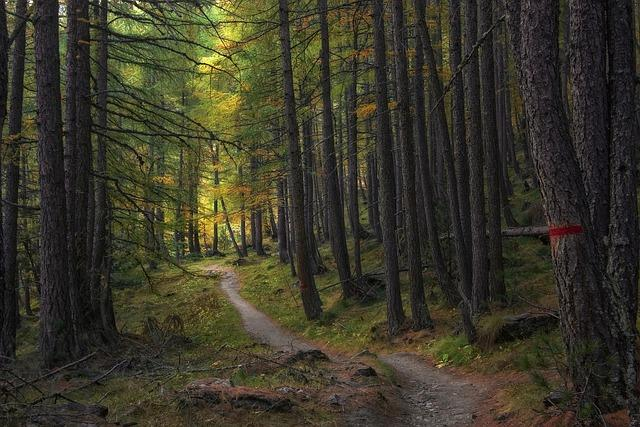Non_Gorille: (44, 18, 568, 361)
